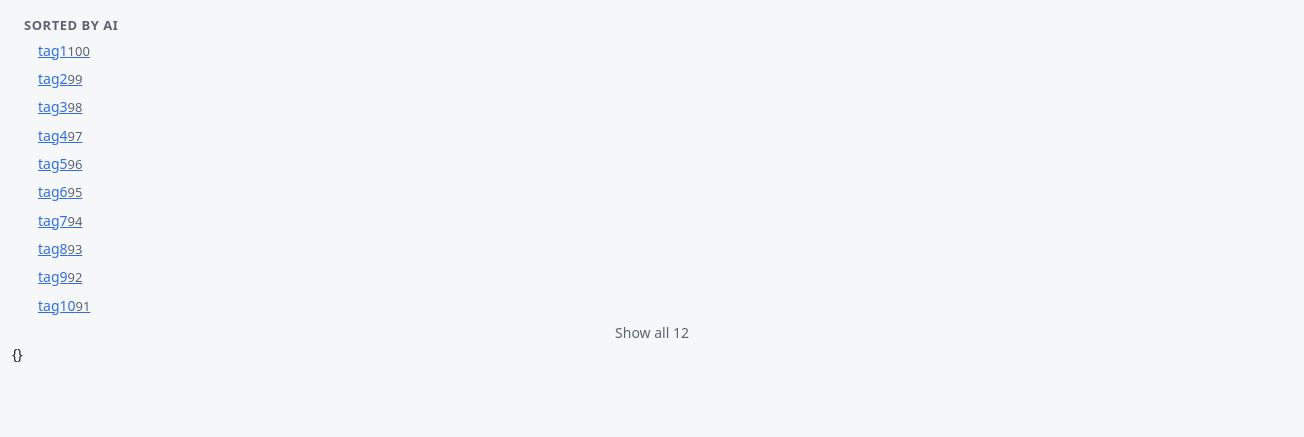
Scenario: Sorted by AI › lists AI groups with counts and opens one as a tag filter
Expected: the link "tag1100" is shown, [38, 41, 90, 60]
Expected: the link "tag12" is not shown
Click the button "Show all 12" at (652, 333), box [12, 322, 1292, 344]
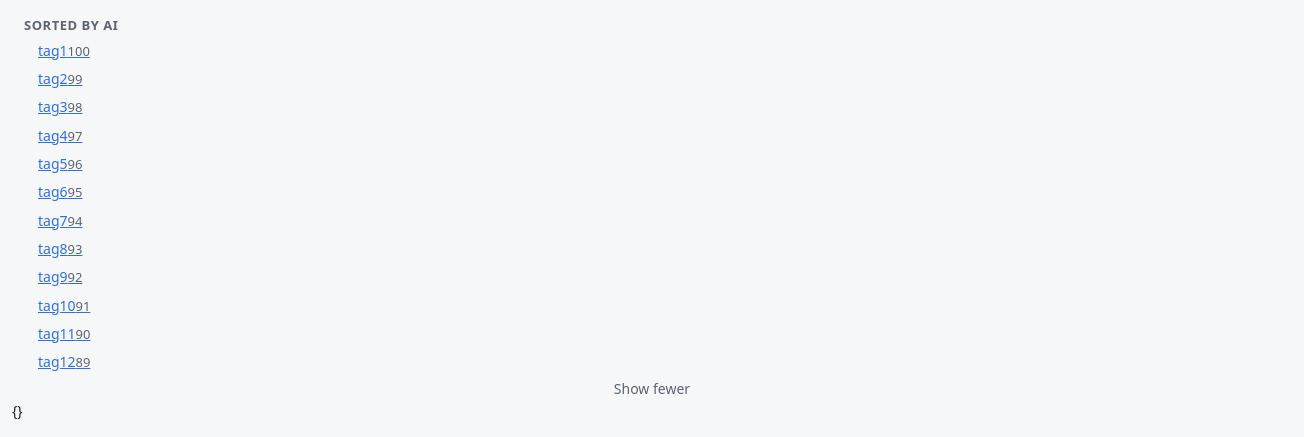
Expected: the link "tag1289" is shown, [38, 352, 90, 371]
Click the link "tag398" at (60, 107), box [38, 97, 82, 116]
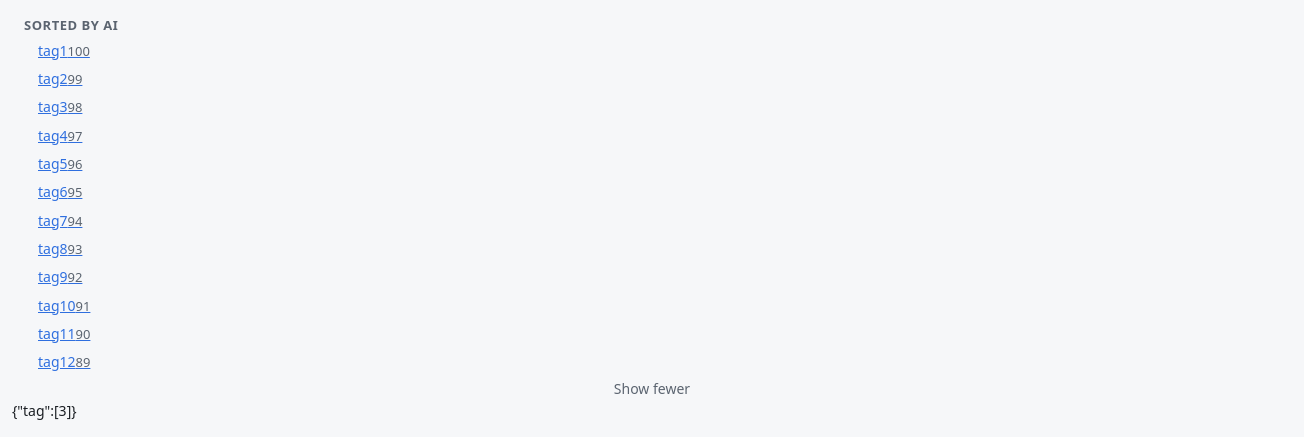
Expected: the text named "filters" reads "{\"tag\":[3]}", [12, 401, 77, 420]
